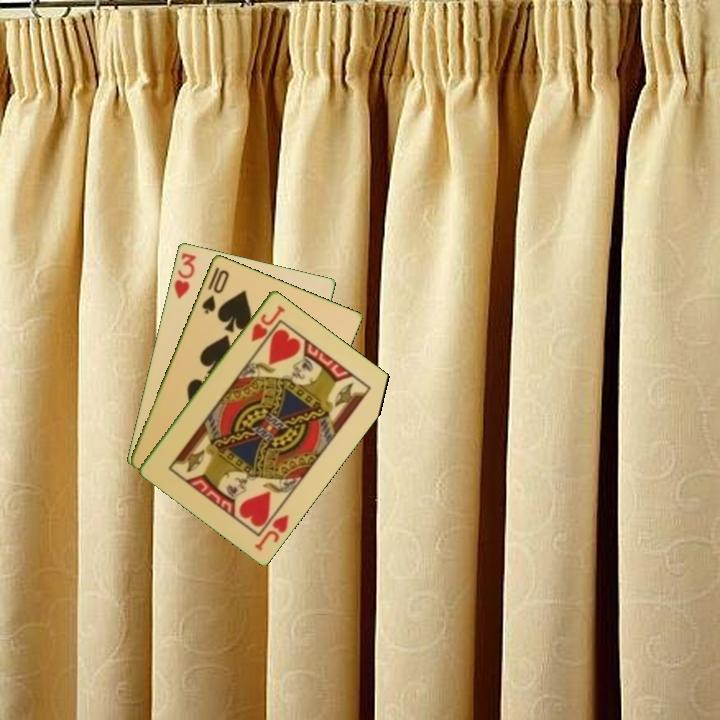10s: (198, 266, 232, 316)
3h: (170, 249, 199, 301)
Jh: (247, 301, 288, 344), (251, 510, 292, 553)
